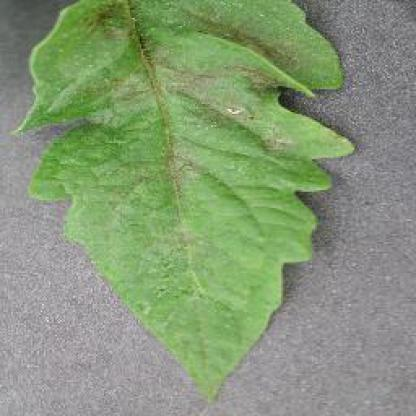bad leaf: (23, 0, 353, 391)
